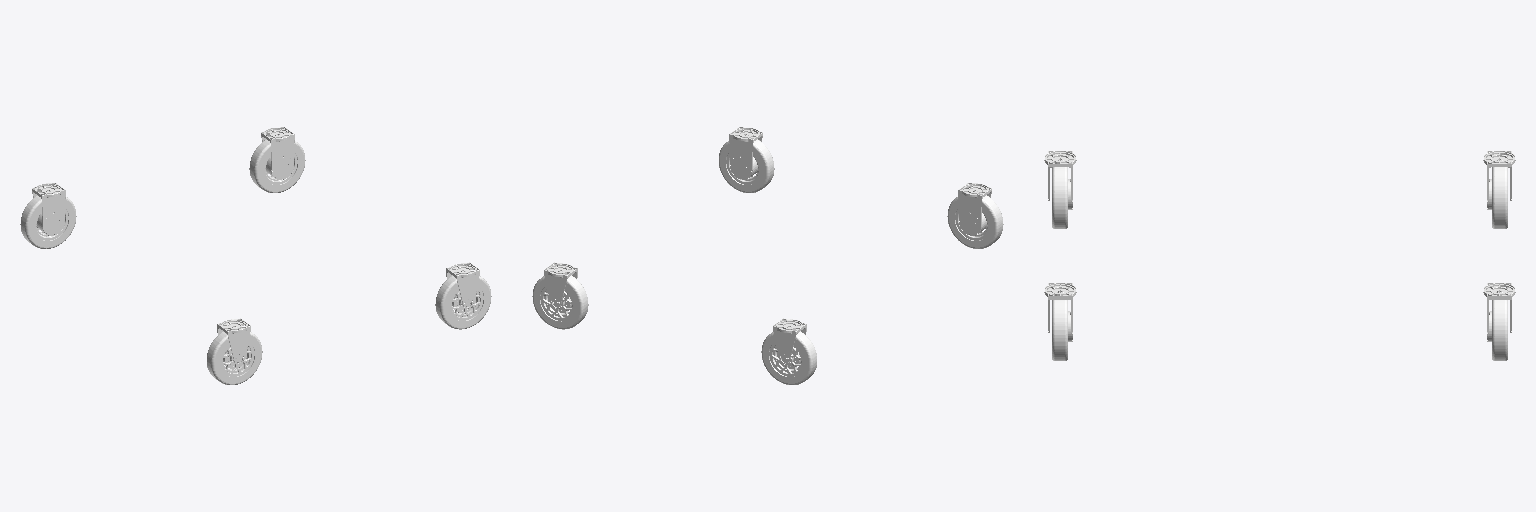
URDF robot description (cdpr_urdf):
<?xml version="1.0" encoding="utf-8"?>
<!-- This URDF was automatically created by SolidWorks to URDF Exporter! Originally created by [author] ([email redacted]) 
     Commit Version: 1.6.0-4-g7f85cfe  Build Version: 1.6.7995.38578
     For more information, please see http://wiki.ros.org/sw_urdf_exporter -->
<robot
  name="cdpr_urdf">
  <link
    name="base_link">
    <inertial>
      <origin
        xyz="8.455E-12 -1.163E-11 -0.77855"
        rpy="0 0 0" />
      <mass
        value="13.224" />
      <inertia
        ixx="0.48681"
        ixy="-2.9532E-06"
        ixz="1.6287E-14"
        iyy="0.39537"
        iyz="7.8669E-14"
        izz="0.15201" />
    </inertial>
    <visual>
      <origin
        xyz="0 0 0"
        rpy="0 0 0" />
      <geometry>
        <mesh
          filename="package://cdpr_urdf/meshes/base_link.STL" />
      </geometry>
      <material
        name="">
        <color
          rgba="1 1 1 1" />
      </material>
    </visual>
    <collision>
      <origin
        xyz="0 0 0"
        rpy="0 0 0" />
      <geometry>
        <mesh
          filename="package://cdpr_urdf/meshes/base_link.STL" />
      </geometry>
    </collision>
  </link>

  <link
    name="link_steer_lf">
    <inertial>
      <origin
        xyz="9.4845E-05 -0.0090409 -0.10703"
        rpy="0 0 0" />
      <mass
        value="0.53871" />
      <inertia
        ixx="0.0010359"
        ixy="-1.3123E-06"
        ixz="-3.0239E-06"
        iyy="0.0011315"
        iyz="-9.7581E-05"
        izz="0.00069015" />
    </inertial>
    <visual>
      <origin
        xyz="0 0 0"
        rpy="0 0 0" />
      <geometry>
        <mesh
          filename="package://cdpr_urdf/meshes/link_steer_lf.STL" />
      </geometry>
      <material
        name="">
        <color
          rgba="1 1 1 1" />
      </material>
    </visual>
    <collision>
      <origin
        xyz="0 0 0"
        rpy="0 0 0" />
      <geometry>
        <mesh
          filename="package://cdpr_urdf/meshes/link_steer_lf.STL" />
      </geometry>
    </collision>
  </link>
  <joint
    name="joint_steer_lf"
    type="continuous">
    <origin
      xyz="0.527 0.74 -1.3154"
      rpy="0 0 0" />
    <parent
      link="base_link" />
    <child
      link="link_steer_lf" />
    <axis
      xyz="0 0 1" />
    <limit
      effort="100"
      velocity="100" />
  </joint>
  <link
    name="link_roll_lf">
    <inertial>
      <origin
        xyz="-4.3238E-05 -0.021911 -2.9494E-05"
        rpy="0 0 0" />
      <mass
        value="1.5144" />
      <inertia
        ixx="0.0072068"
        ixy="-2.1993E-07"
        ixz="2.3853E-06"
        iyy="0.013684"
        iyz="-1.5504E-07"
        izz="0.0072049" />
    </inertial>
    <visual>
      <origin
        xyz="0 0 0"
        rpy="0 0 0" />
      <geometry>
        <mesh
          filename="package://cdpr_urdf/meshes/link_roll_lf.STL" />
      </geometry>
      <material
        name="">
        <color
          rgba="1 1 1 1" />
      </material>
    </visual>
    <collision>
      <origin
        xyz="0 0 0"
        rpy="0 0 0" />
      <geometry>
        <mesh
          filename="package://cdpr_urdf/meshes/link_roll_lf.STL" />
      </geometry>
    </collision>
  </link>
  <joint
    name="joint_roll_lf"
    type="continuous">
    <origin
      xyz="0 0.024 -0.133"
      rpy="0 0 0" />
    <parent
      link="link_steer_lf" />
    <child
      link="link_roll_lf" />
    <axis
      xyz="0 -1 0" />
    <limit
      effort="100"
      velocity="100" />
  </joint>
  <link
    name="link_steer_rf">
    <inertial>
      <origin
        xyz="-9.4845E-05 0.0090407 -0.10703"
        rpy="0 0 0" />
      <mass
        value="0.53871" />
      <inertia
        ixx="0.0010359"
        ixy="-1.3123E-06"
        ixz="3.0239E-06"
        iyy="0.0011315"
        iyz="9.7581E-05"
        izz="0.00069015" />
    </inertial>
    <visual>
      <origin
        xyz="0 0 0"
        rpy="0 0 0" />
      <geometry>
        <mesh
          filename="package://cdpr_urdf/meshes/link_steer_rf.STL" />
      </geometry>
      <material
        name="">
        <color
          rgba="1 1 1 1" />
      </material>
    </visual>
    <collision>
      <origin
        xyz="0 0 0"
        rpy="0 0 0" />
      <geometry>
        <mesh
          filename="package://cdpr_urdf/meshes/link_steer_rf.STL" />
      </geometry>
    </collision>
  </link>
  <joint
    name="joint_steer_rf"
    type="continuous">
    <origin
      xyz="0.527 -0.74 -1.3154"
      rpy="0 0 0" />
    <parent
      link="base_link" />
    <child
      link="link_steer_rf" />
    <axis
      xyz="0 0 1" />
    <limit
      effort="100"
      velocity="100" />
  </joint>
  <link
    name="link_roll_rf">
    <inertial>
      <origin
        xyz="4.3238E-05 0.021911 -2.9527E-05"
        rpy="0 0 0" />
      <mass
        value="1.5144" />
      <inertia
        ixx="0.0072068"
        ixy="-2.1993E-07"
        ixz="-2.3853E-06"
        iyy="0.013684"
        iyz="1.4503E-07"
        izz="0.0072049" />
    </inertial>
    <visual>
      <origin
        xyz="0 0 0"
        rpy="0 0 0" />
      <geometry>
        <mesh
          filename="package://cdpr_urdf/meshes/link_roll_rf.STL" />
      </geometry>
      <material
        name="">
        <color
          rgba="1 1 1 1" />
      </material>
    </visual>
    <collision>
      <origin
        xyz="0 0 0"
        rpy="0 0 0" />
      <geometry>
        <mesh
          filename="package://cdpr_urdf/meshes/link_roll_rf.STL" />
      </geometry>
    </collision>
  </link>
  <joint
    name="joint_roll_rf"
    type="continuous">
    <origin
      xyz="0 -0.024 -0.133"
      rpy="0 0 0" />
    <parent
      link="link_steer_rf" />
    <child
      link="link_roll_rf" />
    <axis
      xyz="0 1 0" />
    <limit
      effort="100"
      velocity="100" />
  </joint>
  <link
    name="link_steer_lb">
    <inertial>
      <origin
        xyz="9.4845E-05 -0.0090407 -0.10703"
        rpy="0 0 0" />
      <mass
        value="0.53871" />
      <inertia
        ixx="0.0010359"
        ixy="-1.3123E-06"
        ixz="-3.0239E-06"
        iyy="0.0011315"
        iyz="-9.7581E-05"
        izz="0.00069015" />
    </inertial>
    <visual>
      <origin
        xyz="0 0 0"
        rpy="0 0 0" />
      <geometry>
        <mesh
          filename="package://cdpr_urdf/meshes/link_steer_lb.STL" />
      </geometry>
      <material
        name="">
        <color
          rgba="1 1 1 1" />
      </material>
    </visual>
    <collision>
      <origin
        xyz="0 0 0"
        rpy="0 0 0" />
      <geometry>
        <mesh
          filename="package://cdpr_urdf/meshes/link_steer_lb.STL" />
      </geometry>
    </collision>
  </link>
  <joint
    name="joint_steer_lb"
    type="continuous">
    <origin
      xyz="-0.527 0.74 -1.3154"
      rpy="0 0 0" />
    <parent
      link="base_link" />
    <child
      link="link_steer_lb" />
    <axis
      xyz="0 0 -1" />
    <limit
      effort="100"
      velocity="100" />
  </joint>
  <link
    name="link_roll_lb">
    <inertial>
      <origin
        xyz="-4.3238E-05 -0.021911 -2.9527E-05"
        rpy="0 0 0" />
      <mass
        value="1.5144" />
      <inertia
        ixx="0.0072068"
        ixy="-2.1993E-07"
        ixz="2.3853E-06"
        iyy="0.013684"
        iyz="-1.4503E-07"
        izz="0.0072049" />
    </inertial>
    <visual>
      <origin
        xyz="0 0 0"
        rpy="0 0 0" />
      <geometry>
        <mesh
          filename="package://cdpr_urdf/meshes/link_roll_lb.STL" />
      </geometry>
      <material
        name="">
        <color
          rgba="1 1 1 1" />
      </material>
    </visual>
    <collision>
      <origin
        xyz="0 0 0"
        rpy="0 0 0" />
      <geometry>
        <mesh
          filename="package://cdpr_urdf/meshes/link_roll_lb.STL" />
      </geometry>
    </collision>
  </link>
  <joint
    name="joint_roll_lb"
    type="continuous">
    <origin
      xyz="0 0.024 -0.133"
      rpy="0 0 0" />
    <parent
      link="link_steer_lb" />
    <child
      link="link_roll_lb" />
    <axis
      xyz="0 -1 0" />
    <limit
      effort="100"
      velocity="100" />
  </joint>
  <link
    name="link_steer_rb">
    <inertial>
      <origin
        xyz="-9.4845E-05 0.0090409 -0.10703"
        rpy="0 0 0" />
      <mass
        value="0.53871" />
      <inertia
        ixx="0.0010359"
        ixy="-1.3123E-06"
        ixz="3.0239E-06"
        iyy="0.0011315"
        iyz="9.7581E-05"
        izz="0.00069015" />
    </inertial>
    <visual>
      <origin
        xyz="0 0 0"
        rpy="0 0 0" />
      <geometry>
        <mesh
          filename="package://cdpr_urdf/meshes/link_steer_rb.STL" />
      </geometry>
      <material
        name="">
        <color
          rgba="1 1 1 1" />
      </material>
    </visual>
    <collision>
      <origin
        xyz="0 0 0"
        rpy="0 0 0" />
      <geometry>
        <mesh
          filename="package://cdpr_urdf/meshes/link_steer_rb.STL" />
      </geometry>
    </collision>
  </link>
  <joint
    name="joint_steer_rb"
    type="continuous">
    <origin
      xyz="-0.527 -0.74 -1.3154"
      rpy="0 0 0" />
    <parent
      link="base_link" />
    <child
      link="link_steer_rb" />
    <axis
      xyz="0 0 1" />
    <limit
      effort="100"
      velocity="100" />
  </joint>
  <link
    name="link_roll_rb">
    <inertial>
      <origin
        xyz="4.3238E-05 0.021911 -2.9494E-05"
        rpy="0 0 0" />
      <mass
        value="1.5144" />
      <inertia
        ixx="0.0072068"
        ixy="-2.1993E-07"
        ixz="-2.3853E-06"
        iyy="0.013684"
        iyz="1.5504E-07"
        izz="0.0072049" />
    </inertial>
    <visual>
      <origin
        xyz="0 0 0"
        rpy="0 0 0" />
      <geometry>
        <mesh
          filename="package://cdpr_urdf/meshes/link_roll_rb.STL" />
      </geometry>
      <material
        name="">
        <color
          rgba="1 1 1 1" />
      </material>
    </visual>
    <collision>
      <origin
        xyz="0 0 0"
        rpy="0 0 0" />
      <geometry>
        <mesh
          filename="package://cdpr_urdf/meshes/link_roll_rb.STL" />
      </geometry>
    </collision>
  </link>
  <joint
    name="joint_roll_rb"
    type="continuous">
    <origin
      xyz="0 -0.024 -0.133"
      rpy="0 0 0" />
    <parent
      link="link_steer_rb" />
    <child
      link="link_roll_rb" />
    <axis
      xyz="0 1 0" />
    <limit
      effort="100"
      velocity="100" />
  </joint>
</robot>

--- What the picture shows (computed from the rendered views, not written in the file) ---
Views: 3 orthographic renders of the robot side by side, from view 1: azimuth 30°, elevation 25°; view 2: azimuth 150°, elevation 25°; view 3: azimuth 270°, elevation 25°.
Robot: cdpr_urdf — 9 links, 8 joints (8 continuous); root link base_link; default pose: every joint at zero.
Links seen in each view (by area): view 1: link_roll_rf, link_roll_rb, link_roll_lf, link_roll_lb, link_steer_lb, link_steer_lf, link_steer_rf, link_steer_rb; view 2: link_roll_lf, link_roll_lb, link_roll_rf, link_roll_rb, link_steer_rb, link_steer_rf, link_steer_lf, link_steer_lb; view 3: link_roll_rb, link_roll_lb, link_roll_lf, link_roll_rf, link_steer_rf, link_steer_lf, link_steer_rb, link_steer_lb.
Link boxes in pixels (left/top/right/bottom): link_roll_rf: left=435, top=275, right=491, bottom=329; link_roll_rb: left=207, top=331, right=262, bottom=384; link_roll_lf: left=249, top=139, right=305, bottom=192; link_roll_lb: left=20, top=195, right=76, bottom=248; link_steer_lb: left=32, top=183, right=65, bottom=235; link_steer_lf: left=261, top=127, right=294, bottom=179; link_steer_rf: left=446, top=262, right=479, bottom=312; link_steer_rb: left=217, top=318, right=250, bottom=368; link_roll_lf: left=532, top=275, right=588, bottom=329; link_roll_lb: left=761, top=329, right=816, bottom=384; link_roll_rf: left=719, top=139, right=774, bottom=192; link_roll_rb: left=947, top=195, right=1003, bottom=248; link_steer_rb: left=958, top=183, right=991, bottom=235; link_steer_rf: left=729, top=127, right=762, bottom=179; link_steer_lf: left=544, top=262, right=577, bottom=312; link_steer_lb: left=773, top=318, right=806, bottom=368; link_roll_rb: left=1052, top=163, right=1067, bottom=228; link_roll_lb: left=1492, top=167, right=1507, bottom=228; link_roll_lf: left=1492, top=300, right=1507, bottom=360; link_roll_rf: left=1052, top=300, right=1067, bottom=360; link_steer_rf: left=1044, top=283, right=1076, bottom=341; link_steer_lf: left=1483, top=283, right=1515, bottom=341; link_steer_rb: left=1044, top=151, right=1076, bottom=209; link_steer_lb: left=1483, top=151, right=1515, bottom=209.
Bounding box of the posed robot: 1.29 × 1.59 × 0.2545 m (x, y, z).
8 mesh visuals loaded from 9 distinct referenced files (8 binary STL); not drawn: 1 (reference not matched to a file when rendering).